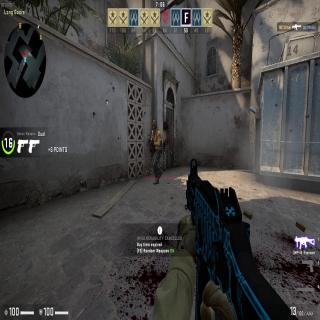CT-Body: (152, 120, 157, 130)
CT-Head: (150, 119, 162, 185)
